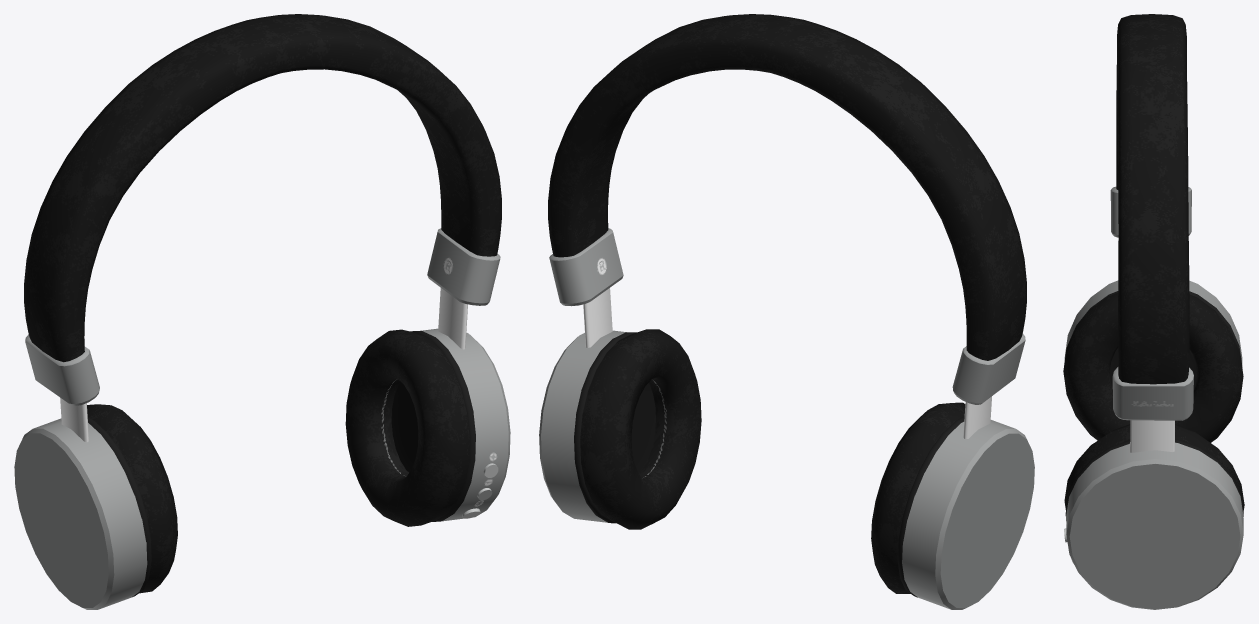
Rendered from headPhone.glb.
3 renders of one model, left to right at view 1: azimuth 30°, elevation 25°; view 2: azimuth 150°, elevation 25°; view 3: azimuth 270°, elevation 25°, orthographic. The views are drawn at different scales.
Parts seen in each view (by area): view 1: frame, ear.001, ear; view 2: frame, ear.001, ear; view 3: frame, ear.001, ear.
Part boxes in pixels (box(x1,y1,x2,y2)): frame: box(24, 14, 501, 405); ear.001: box(345, 288, 510, 526); ear: box(14, 397, 177, 609); frame: box(548, 14, 1026, 404); ear.001: box(539, 288, 701, 529); ear: box(871, 396, 1034, 609); frame: box(1110, 14, 1193, 420); ear.001: box(1064, 420, 1244, 609); ear: box(1063, 280, 1243, 442).
Size of the model in its own units: 1.57 by 1.76 by 0.5927.
1 material, 1 textured.
